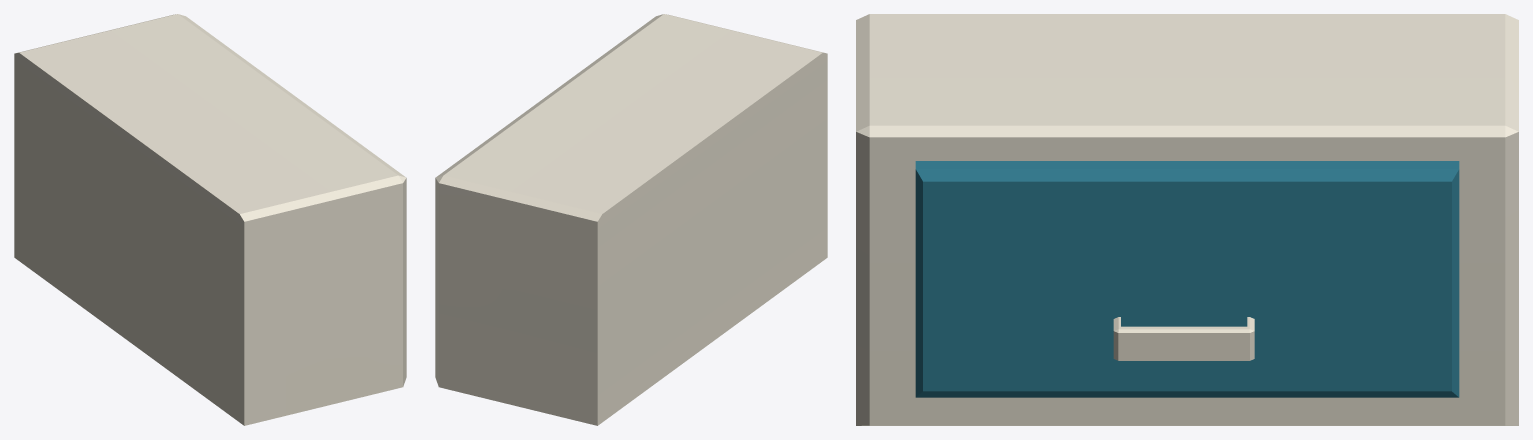
The model's file is HighCabinet2.glb.
3 renders of one model, left to right at view 1: azimuth 30°, elevation 25°; view 2: azimuth 150°, elevation 25°; view 3: azimuth 270°, elevation 25°, orthographic. The views are drawn at different scales.
Parts seen in each view (by area): view 1: HighCabinet2; view 2: HighCabinet2; view 3: HighCabinet2.
Part boxes in pixels (box(x1,y1,x2,y2)): HighCabinet2: box(14, 14, 406, 425); HighCabinet2: box(435, 14, 827, 425); HighCabinet2: box(856, 14, 1518, 425).
Bounding box in the file's own units: 0.5091 × 0.5 × 1.
Materials: 1 (1 with a texture image).
